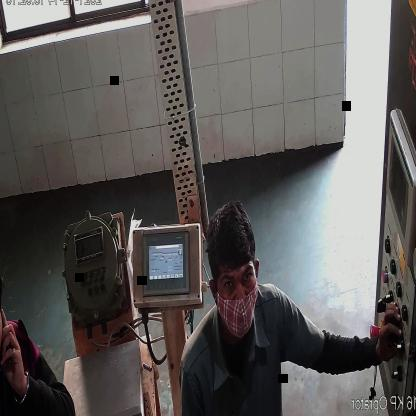no_goggles: (216, 269, 253, 305)
